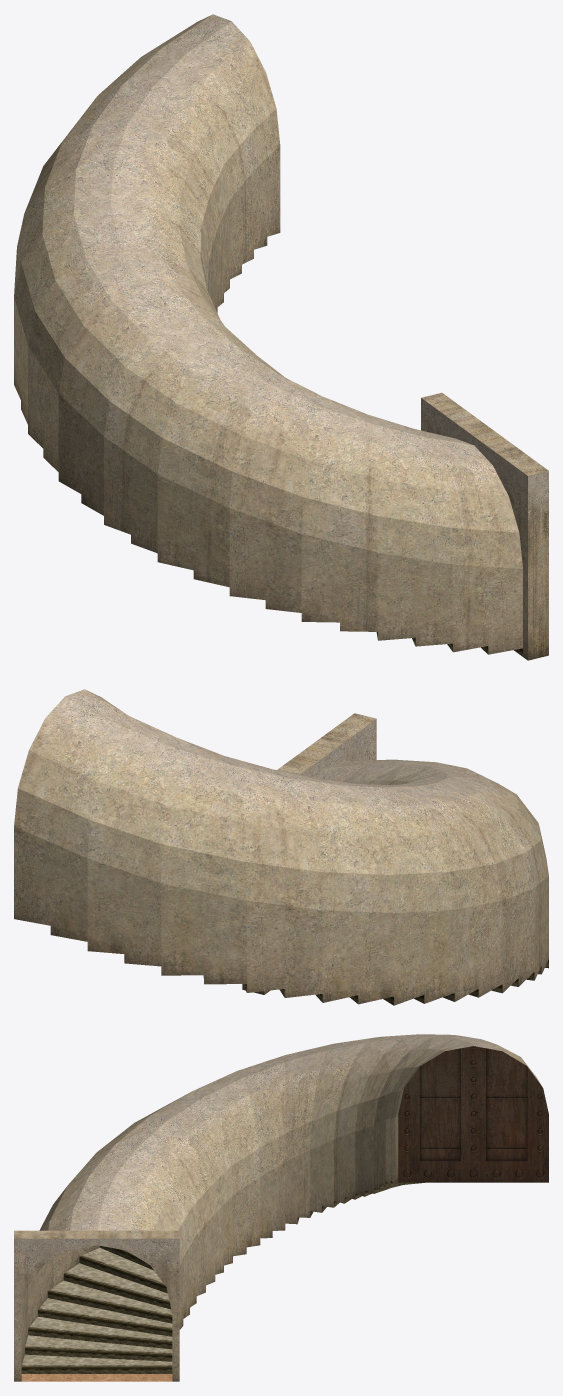
Rendered from thm_tato_jabbas_palace_r24_spawn2_mesh_r24.fbx.
3 renders of one model, top to bottom at view 1: azimuth 30°, elevation 25°; view 2: azimuth 150°, elevation 25°; view 3: azimuth 270°, elevation 25°, orthographic. The views are drawn at different scales.
Parts seen in each view (by area): view 1: mesh_node; view 2: mesh_node; view 3: mesh_node.
Boxes of the visible parts, x1,y1,x2,y2 form: mesh_node: (14, 14, 548, 660); mesh_node: (14, 689, 548, 1005); mesh_node: (14, 1034, 548, 1381).
Bounding box in the file's own units: 7.5 × 9.6 × 14.2.
